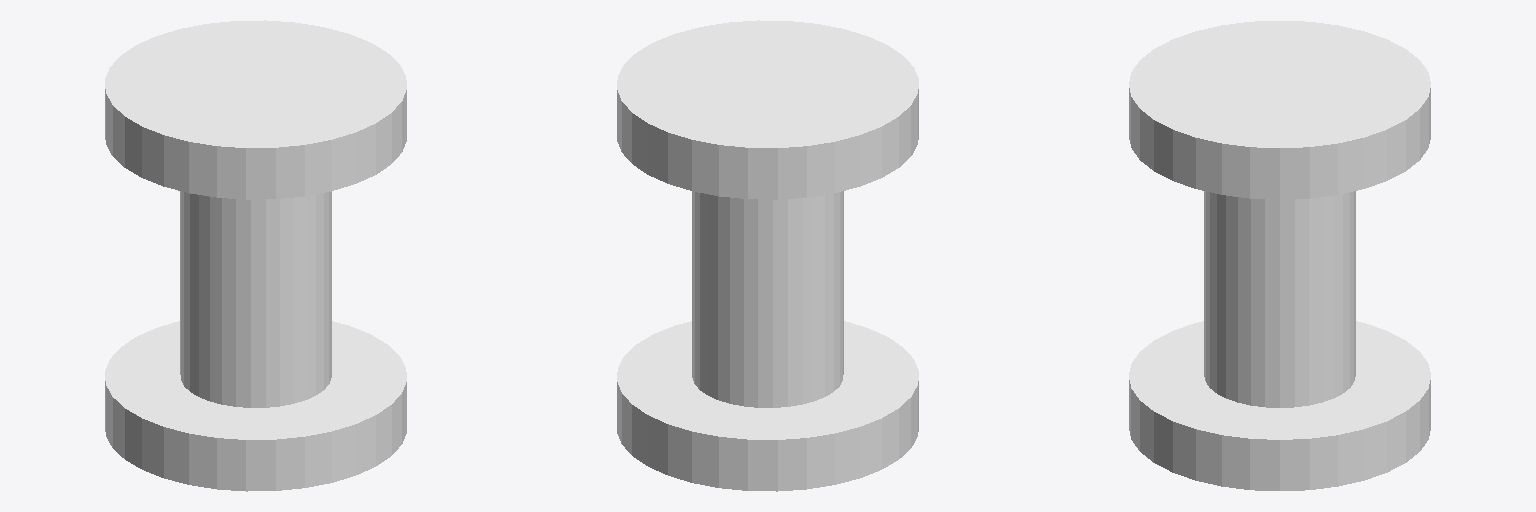
robot.urdf — 000_stage:
<robot name="000_stage">
	<link name="cylinder_1">
		<visual>
			<origin xyz="0 0 0" rpy="0 0 0" />
			<geometry>
				<cylinder radius="0.04" length="0.015" />
			</geometry>
			<material name="texture">
				<color rgba="1.0 1.0 1.0 1.0" />
			</material>
		</visual>
		<collision>
			<geometry>
				<cylinder radius="0.04" length="0.015" />
			</geometry>
		    <origin xyz="0 0 0" rpy="0 0 0" />
		</collision>
		<inertial>
			<mass value="1.0" />
			<inertia ixx="1.0" ixy="0.0" ixz="0.0" iyy="1.0" iyz="0.0" izz="1.0" />
		</inertial>
	</link>

	<link name="cylinder_2">
		<visual>
			<origin xyz="0 0 0" rpy="0 0 0" />
			<geometry>
				<cylinder radius="0.02" length="0.07" />
			</geometry>
			<material name="texture">
				<color rgba="1.0 1.0 1.0 1.0" />
			</material>
		</visual>
		<collision>
			<geometry>
				<cylinder radius="0.02" length="0.07" />
			</geometry>
		    <origin xyz="0 0 0" rpy="0 0 0" />
		</collision>
		<inertial>
			<mass value="1.0" />
			<inertia ixx="1.0" ixy="0.0" ixz="0.0" iyy="1.0" iyz="0.0" izz="1.0" />
		</inertial>
	</link>

	<link name="cylinder_3">
		<visual>
			<origin xyz="0 0 0" rpy="0 0 0" />
			<geometry>
				<cylinder radius="0.04" length="0.015" />
			</geometry>
			<material name="texture">
				<color rgba="1.0 1.0 1.0 1.0" />
			</material>
		</visual>
		<collision>
			<geometry>
				<cylinder radius="0.04" length="0.015" />
			</geometry>
		    <origin xyz="0 0 0" rpy="0 0 0" />
		</collision>
		<inertial>
			<mass value="1.0" />
			<inertia ixx="1.0" ixy="0.0" ixz="0.0" iyy="1.0" iyz="0.0" izz="1.0" />
		</inertial>
	</link>

	<joint name="joint_12" type="fixed">
        <origin xyz="0 0 0.0425" rpy="0 0 0"/>
        <parent link="cylinder_1"/>
        <child link="cylinder_2"/>
    </joint>

    <joint name="joint_23" type="fixed">
        <origin xyz="0 0 0.0425" rpy="0 0 0"/>
        <parent link="cylinder_2"/>
        <child link="cylinder_3"/>
    </joint>
</robot>

--- What the picture shows (computed from the rendered views, not written in the file) ---
The picture shows the robot from 3 angles, left to right: view 1: azimuth 30°, elevation 25°; view 2: azimuth 150°, elevation 25°; view 3: azimuth 270°, elevation 25°; orthographic projection.
Model 000_stage with 3 links and 2 joints (2 fixed), rooted at cylinder_1, posed every joint at zero.
Visible links, largest first — view 1: cylinder_3, cylinder_1, cylinder_2; view 2: cylinder_3, cylinder_1, cylinder_2; view 3: cylinder_3, cylinder_1, cylinder_2.
Boxes of the visible links, x1=… form: cylinder_3: x1=105, y1=20, x2=406, y2=199; cylinder_1: x1=105, y1=321, x2=406, y2=491; cylinder_2: x1=180, y1=191, x2=331, y2=407; cylinder_3: x1=617, y1=20, x2=918, y2=199; cylinder_1: x1=617, y1=321, x2=918, y2=491; cylinder_2: x1=692, y1=191, x2=843, y2=407; cylinder_3: x1=1129, y1=21, x2=1430, y2=199; cylinder_1: x1=1129, y1=321, x2=1430, y2=490; cylinder_2: x1=1204, y1=191, x2=1355, y2=407.
Size in the robot's own frame: 0.08 by 0.08 by 0.1 metres.
Geometry: primitives only (box / cylinder / sphere), no mesh files.